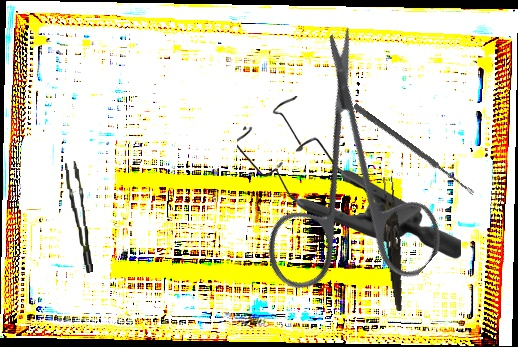Dressing Forceps: (377, 175, 410, 312)
Iris Scissors: (187, 21, 512, 347)
Speculum: (237, 96, 461, 259)
Surgical Spoon: (352, 103, 476, 196)
Tissue Forceps: (65, 160, 93, 274)
